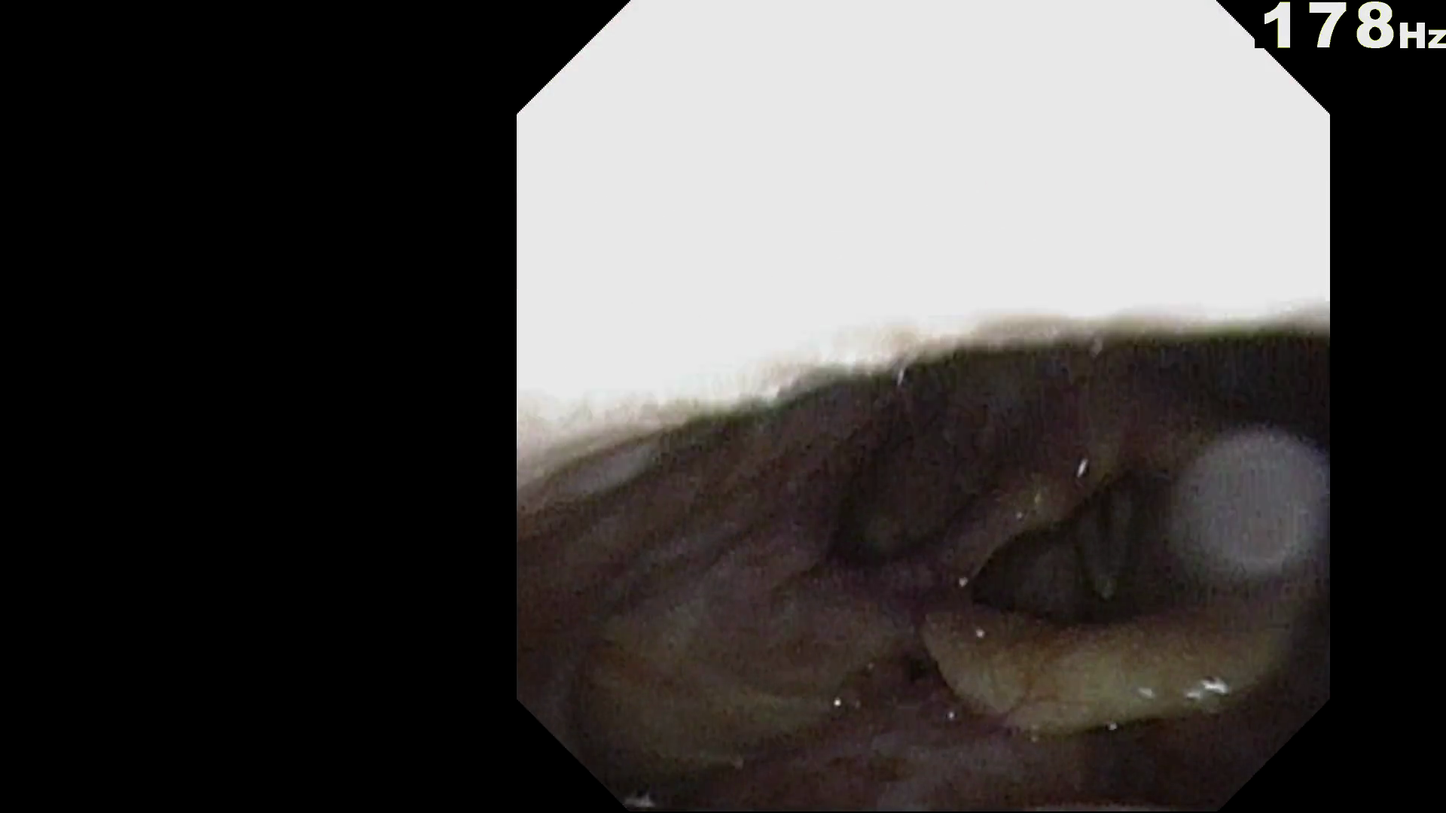epiglottis: (892, 578, 1288, 739)
trachea: (1058, 470, 1163, 598)
